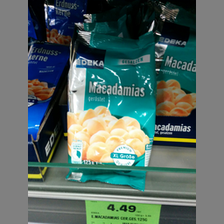nuts: (65, 27, 158, 190)
